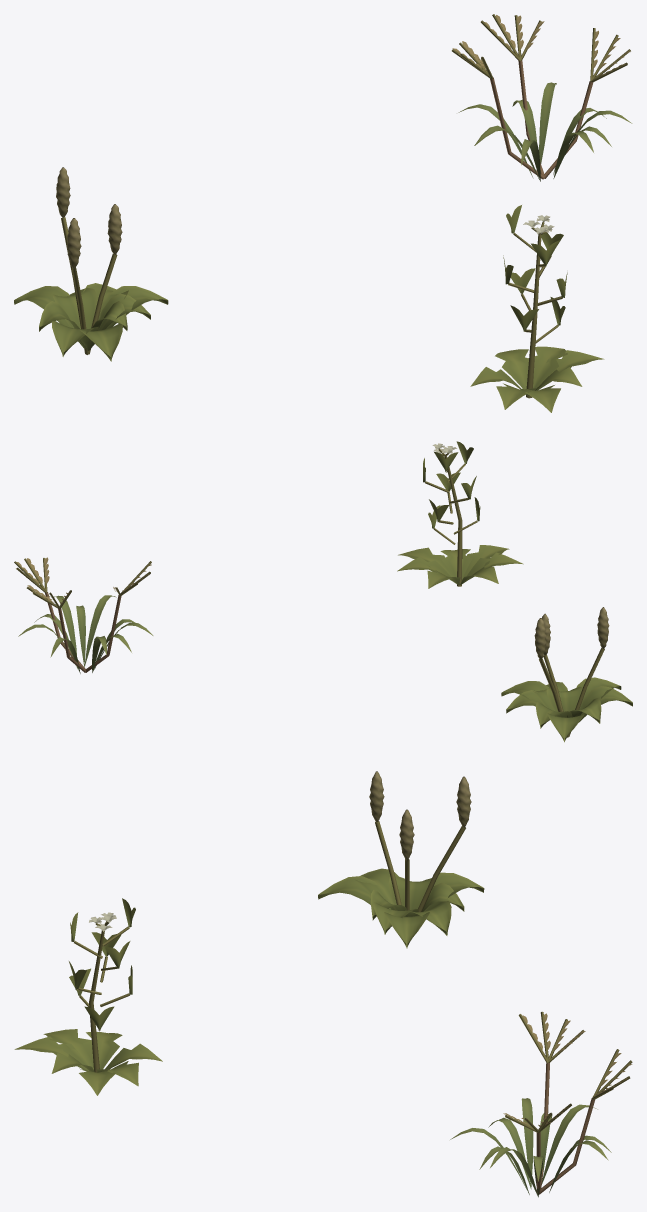
File: weeds.glb
3 views of the same model, one above another, from view 1: azimuth 30°, elevation 25°; view 2: azimuth 150°, elevation 25°; view 3: azimuth 270°, elevation 25° (orthographic). The views are drawn at different scales.
Parts seen in each view (by area): view 1: Rosettes, Seeded; view 2: Rosettes, Seeded; view 3: Rosettes, Seeded.
Boxes of the visible parts, left/top/right/bottom form: Rosettes: left=14, top=82, right=632, bottom=412; Seeded: left=56, top=14, right=630, bottom=398; Rosettes: left=18, top=545, right=632, bottom=742; Seeded: left=14, top=441, right=609, bottom=737; Rosettes: left=14, top=868, right=611, bottom=1197; Seeded: left=69, top=771, right=632, bottom=1194.
Size of the model in its own units: 1.78 by 0.4585 by 1.46.
